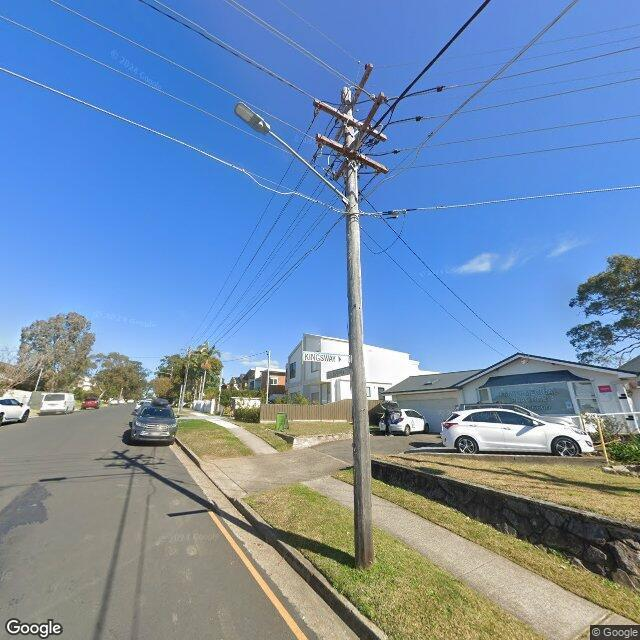crossarm: (313, 96, 387, 142), (315, 132, 389, 174), (334, 63, 374, 126), (356, 91, 386, 149)
steel-pole: (218, 367, 224, 411), (266, 350, 270, 404)
streetlight: (234, 102, 351, 206)
timber-pole: (342, 87, 374, 567), (179, 346, 192, 415)
